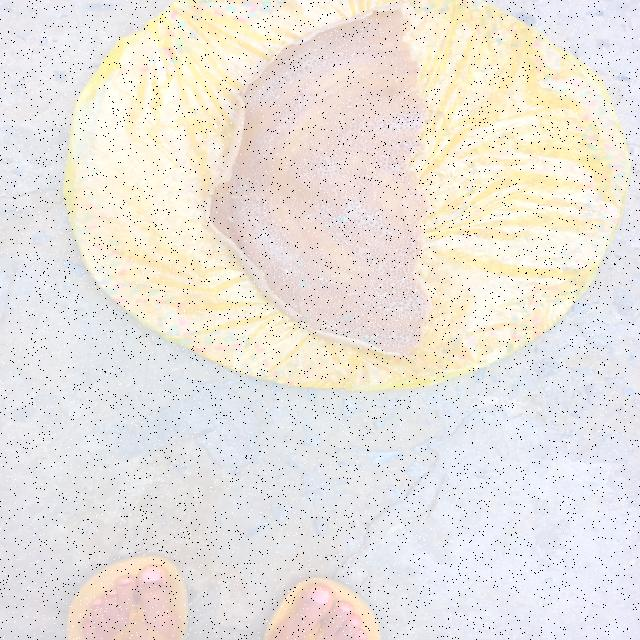injera_mold: (321, 319, 338, 330), (372, 290, 391, 299), (280, 266, 292, 274), (400, 276, 411, 284), (224, 214, 234, 222), (299, 278, 308, 286), (342, 316, 352, 321), (318, 277, 325, 284), (337, 216, 346, 221), (242, 185, 249, 191), (346, 332, 354, 337), (361, 336, 370, 340), (307, 213, 313, 219), (324, 222, 332, 226), (318, 265, 323, 271), (400, 334, 407, 338), (413, 288, 419, 292), (373, 337, 379, 341), (299, 260, 303, 264), (343, 256, 346, 260)
